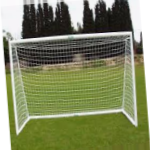goals: (7, 31, 140, 134)
